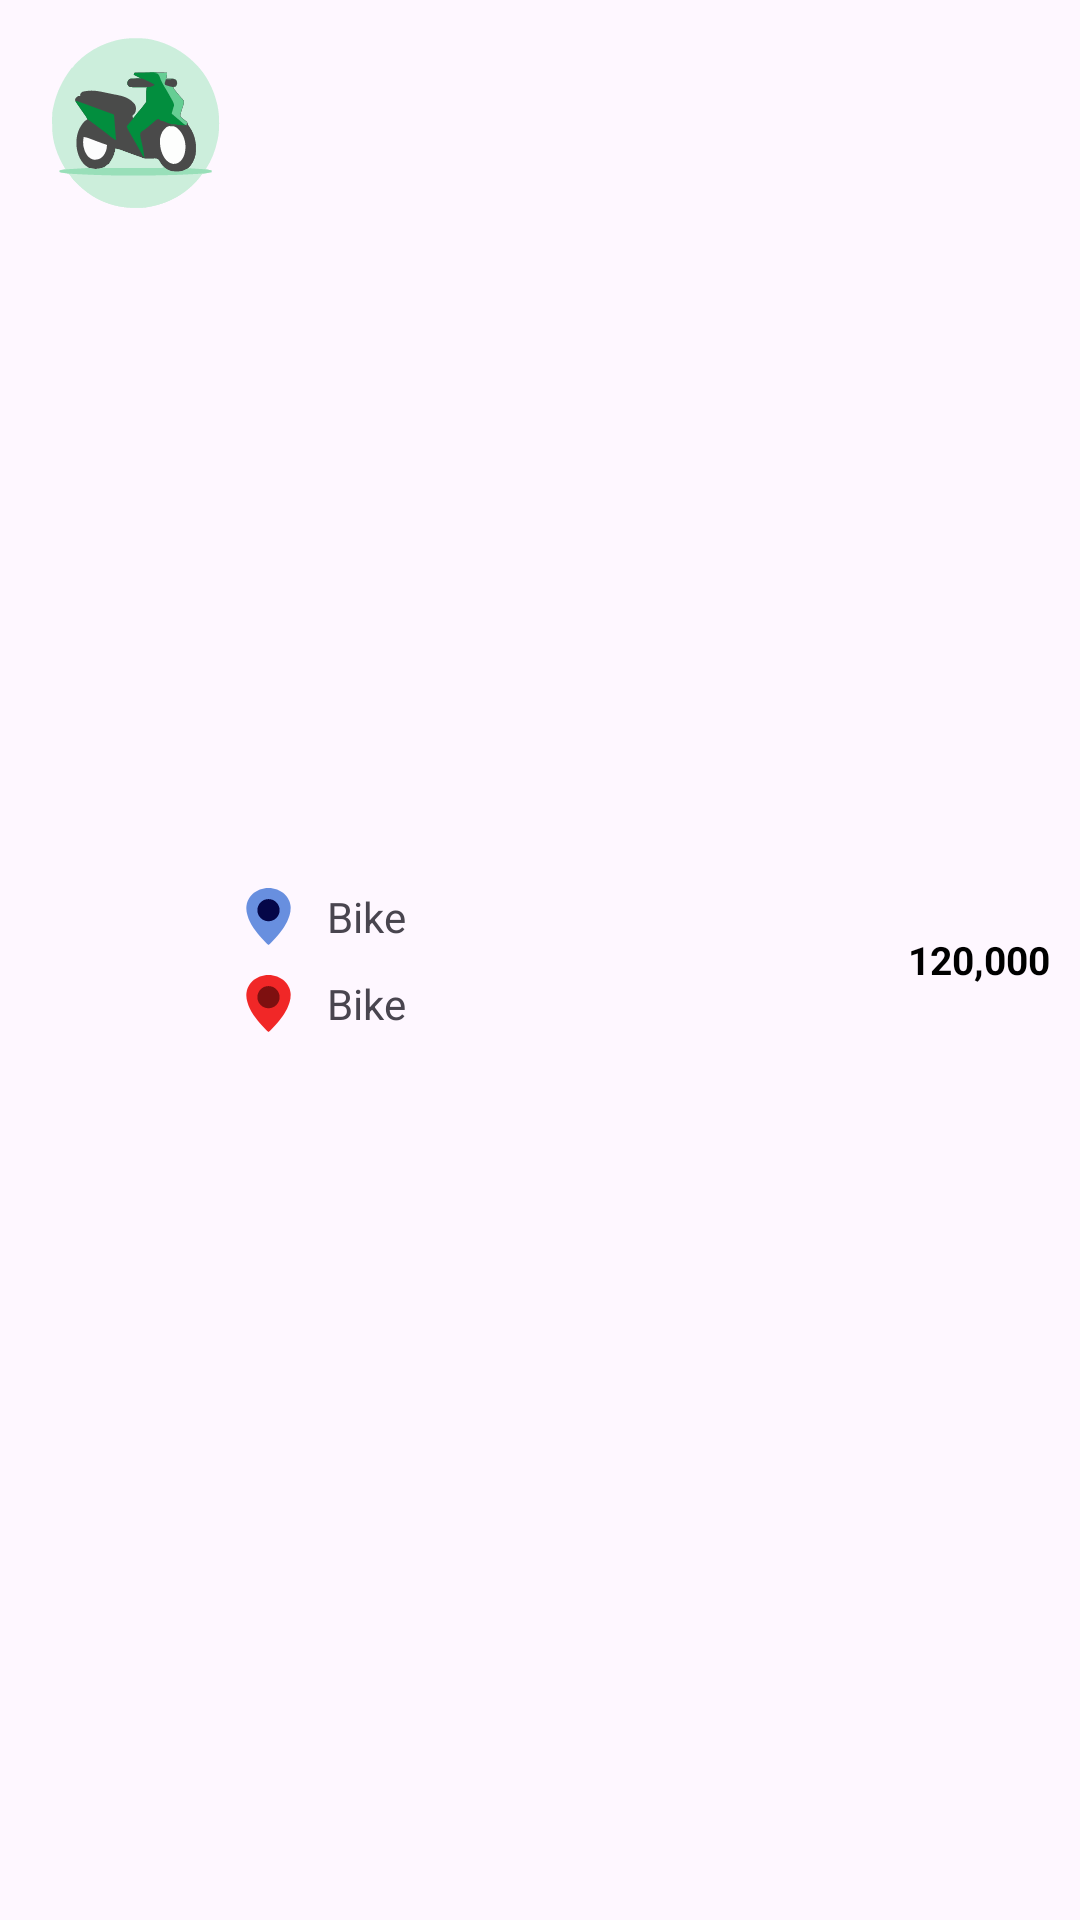

Icons on this 1080 x 1920 Android screen, each with the point to tap as (x,y):
bike: (135,123)
marker end: (268,1003)
marker start: (268,916)
